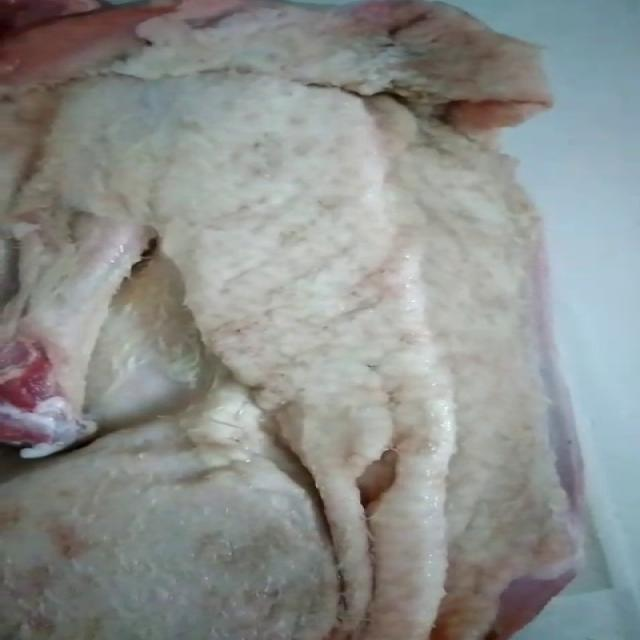chicken: (0, 0, 572, 640)
